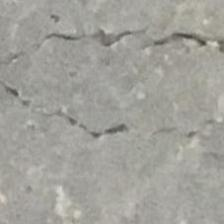Crack: (0, 27, 224, 148)
